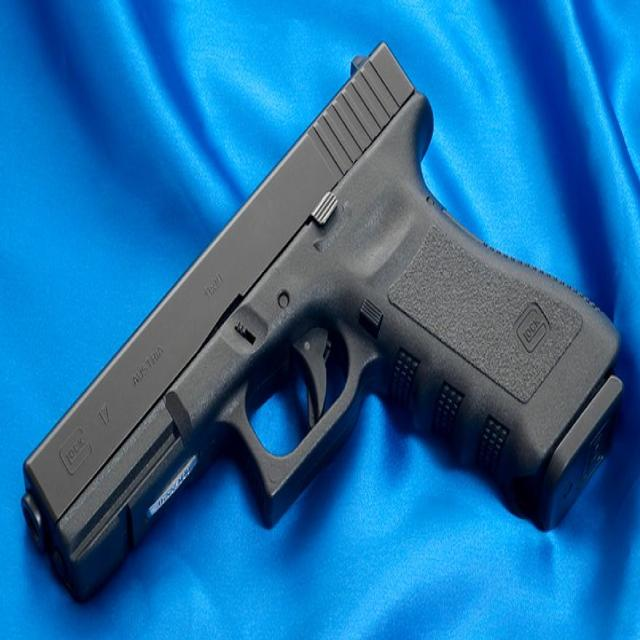HandGun: (22, 44, 625, 608)
